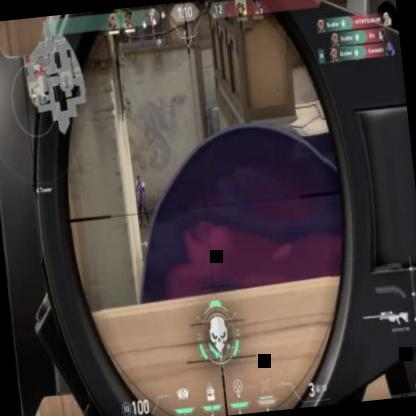enemy: (132, 173, 151, 229)
enemy_head: (136, 173, 140, 182)
